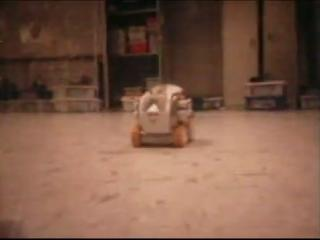cozmo: (129, 82, 195, 148)
